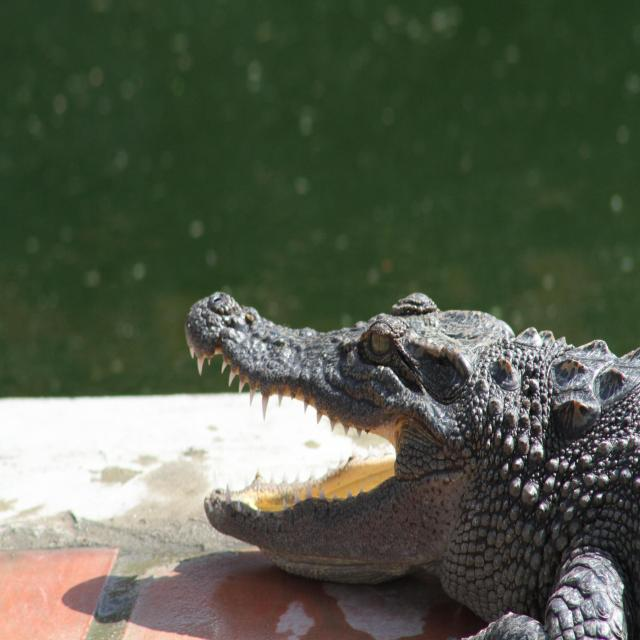crocodile: (179, 285, 640, 640)
